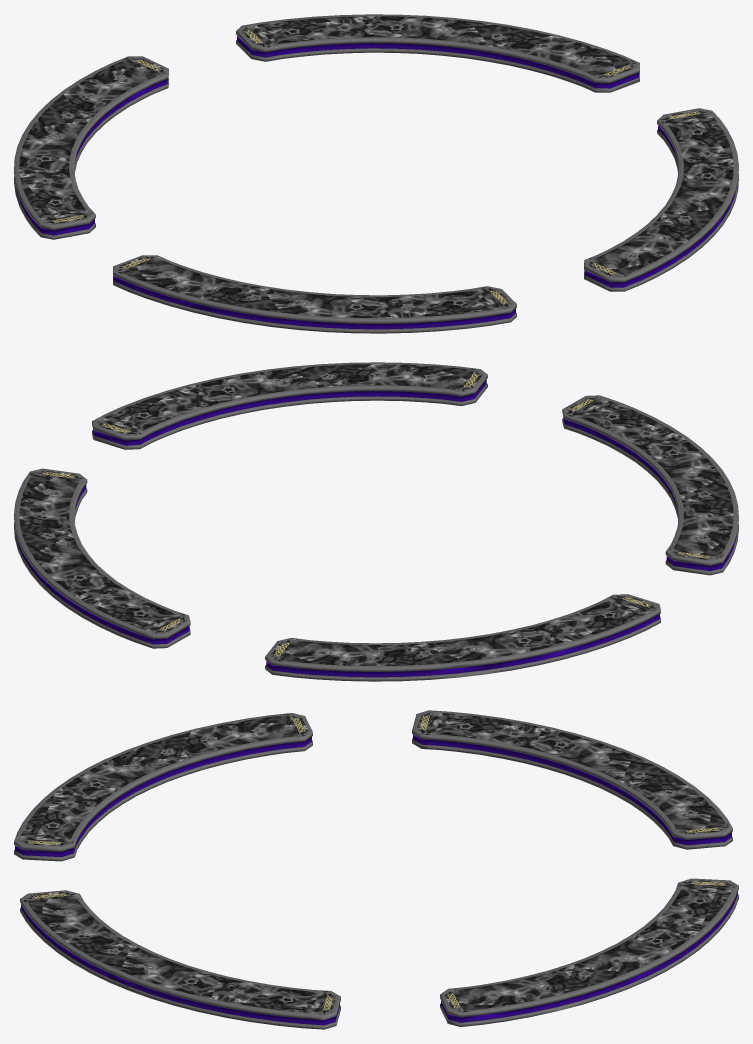
The model's file is MarioFacelessShipRotateStepA.fbx.
The picture shows the model from 3 angles, top to bottom: view 1: azimuth 30°, elevation 25°; view 2: azimuth 150°, elevation 25°; view 3: azimuth 270°, elevation 25°; orthographic projection.
Visible parts, largest first — view 1: mesh-1, mesh-1.002, mesh-1.003, mesh-1.001; view 2: mesh-1, mesh-1.002, mesh-1.003, mesh-1.001; view 3: mesh-1, mesh-1.002, mesh-1.003, mesh-1.001.
Part boxes in pixels (x1=…): mesh-1: x1=19, y1=16, x2=733, y2=317; mesh-1.002: x1=14, y1=14, x2=738, y2=333; mesh-1.003: x1=37, y1=24, x2=715, y2=310; mesh-1.001: x1=52, y1=30, x2=700, y2=304; mesh-1: x1=19, y1=364, x2=733, y2=665; mesh-1.002: x1=14, y1=362, x2=738, y2=681; mesh-1.003: x1=37, y1=371, x2=715, y2=658; mesh-1.001: x1=43, y1=374, x2=709, y2=656; mesh-1: x1=17, y1=711, x2=735, y2=1014; mesh-1.002: x1=14, y1=710, x2=738, y2=1029; mesh-1.003: x1=45, y1=723, x2=707, y2=1002; mesh-1.001: x1=28, y1=716, x2=724, y2=1009.
Bounding box in the file's own units: 616600 × 13000 × 616600.
